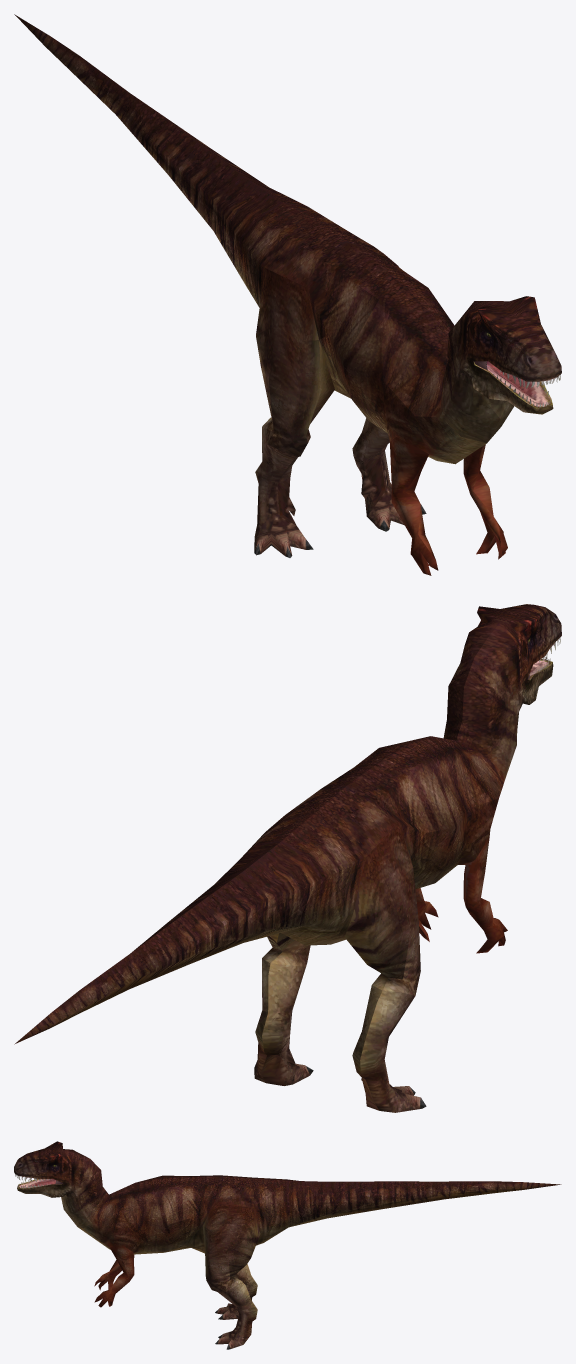
File: allo.obj
3 views of the same model, one above another, from view 1: azimuth 30°, elevation 25°; view 2: azimuth 150°, elevation 25°; view 3: azimuth 270°, elevation 25° (orthographic). The views are drawn at different scales.
Visible parts, largest first — view 1: D_L_HorseLink_mesh.002; view 2: D_L_HorseLink_mesh.002; view 3: D_L_HorseLink_mesh.002.
Part boxes in pixels (x1=…): D_L_HorseLink_mesh.002: x1=14, y1=14, x2=561, y2=575; D_L_HorseLink_mesh.002: x1=14, y1=604, x2=561, y2=1112; D_L_HorseLink_mesh.002: x1=14, y1=1141, x2=561, y2=1349.
Bounding box in the file's own units: 0.7112 × 1.4 × 3.87.
Materials: 1 (1 with a texture image).
